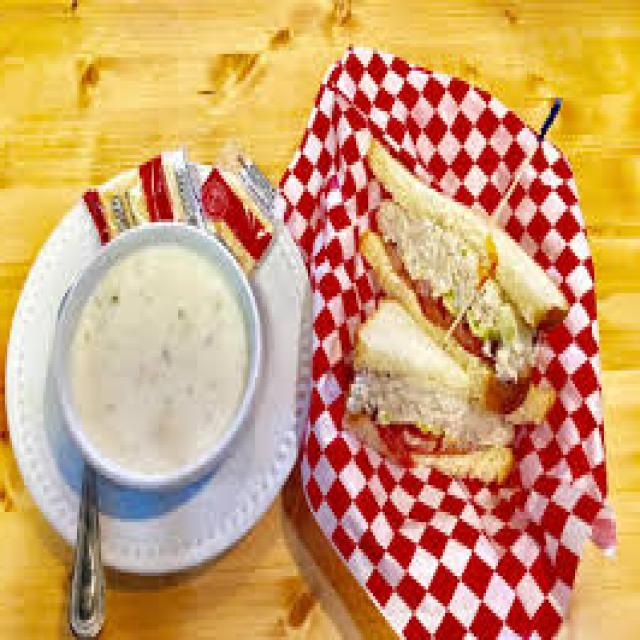Sandwich: (337, 155, 560, 482)
